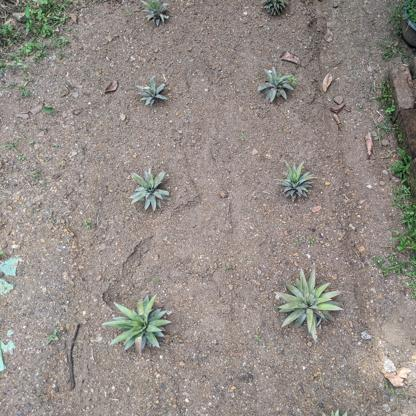pineapple: (274, 265, 347, 344), (104, 291, 174, 355), (273, 156, 318, 209), (126, 167, 176, 214), (255, 67, 301, 108), (132, 74, 171, 108), (138, 2, 176, 30), (258, 1, 296, 23)
